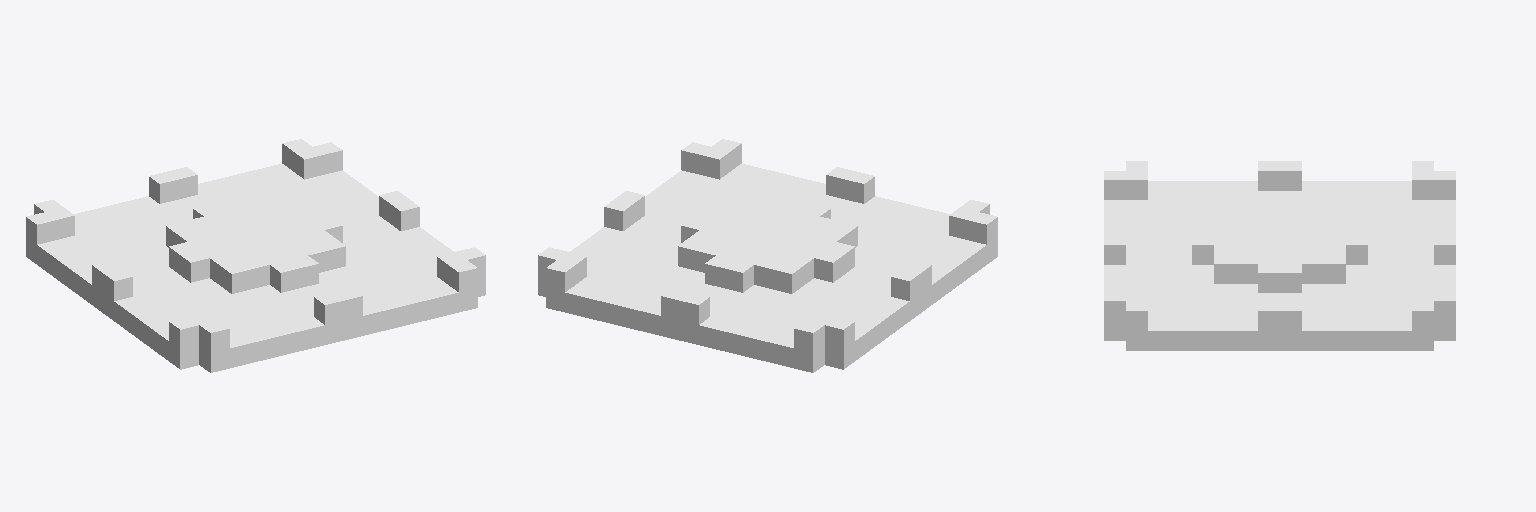
The model's file is mod_sellShop.obj.
The picture shows the model from 3 angles: view 1: azimuth 30°, elevation 25°; view 2: azimuth 150°, elevation 25°; view 3: azimuth 270°, elevation 25°; orthographic projection.
Size of the model in its own units: 16 by 2 by 16.